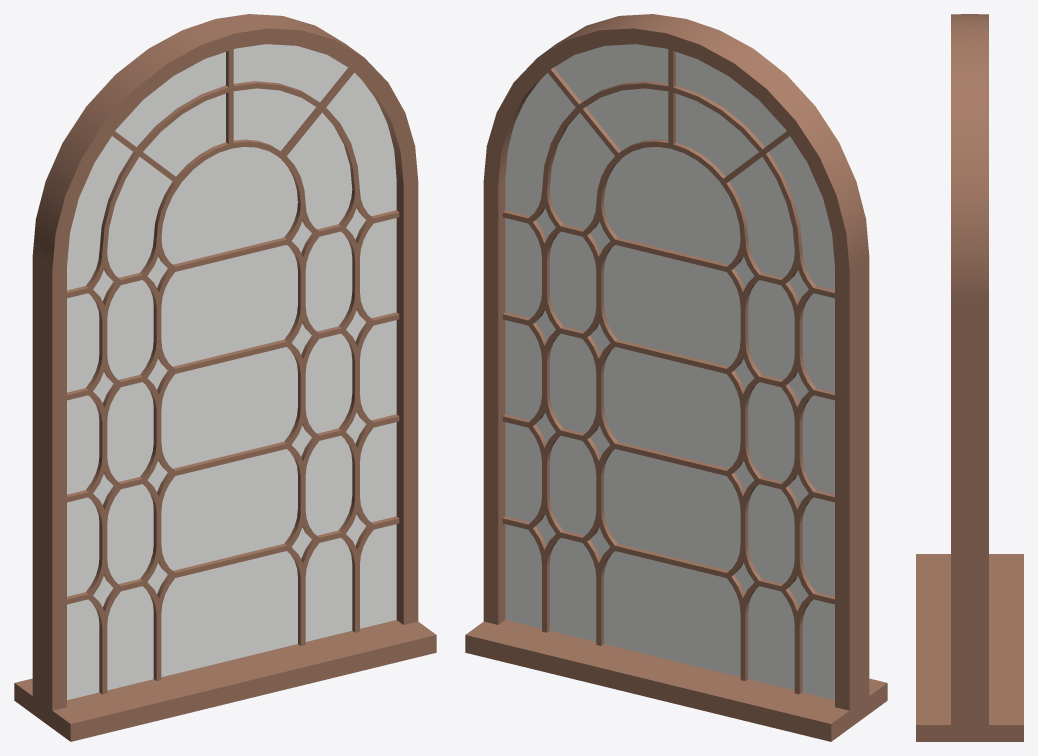
File: 379_アーチ窓.glb
The picture shows the model from 3 angles, left to right: view 1: azimuth 30°, elevation 25°; view 2: azimuth 150°, elevation 25°; view 3: azimuth 270°, elevation 25°; orthographic projection. The views are drawn at different scales.
Visible parts, largest first — view 1: 379_アーチ窓; view 2: 379_アーチ窓; view 3: 379_アーチ窓.
Part boxes in pixels (x1,y1,x2,y2): 379_アーチ窓: (14, 14, 436, 741); 379_アーチ窓: (465, 14, 887, 741); 379_アーチ窓: (916, 14, 1023, 741).
Bounding box in the file's own units: 1.5 × 2.55 × 0.4.
